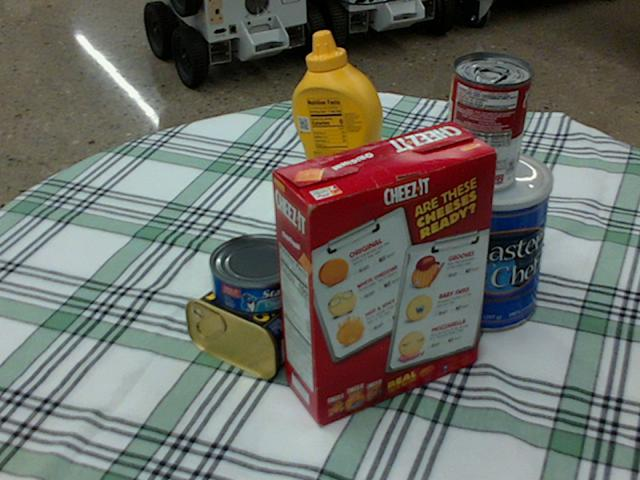cracker_box: (271, 121, 496, 425)
gelatin_box: (282, 178, 366, 245)
master_chef_can: (429, 147, 553, 331)
mug: (294, 213, 404, 331)
mustard_bottle: (290, 31, 396, 220)
potted_meat_can: (187, 263, 329, 378)
sugar_box: (348, 164, 501, 287)
tomato_soup_can: (442, 52, 530, 191)
tuna_fish_can: (209, 233, 306, 315)
